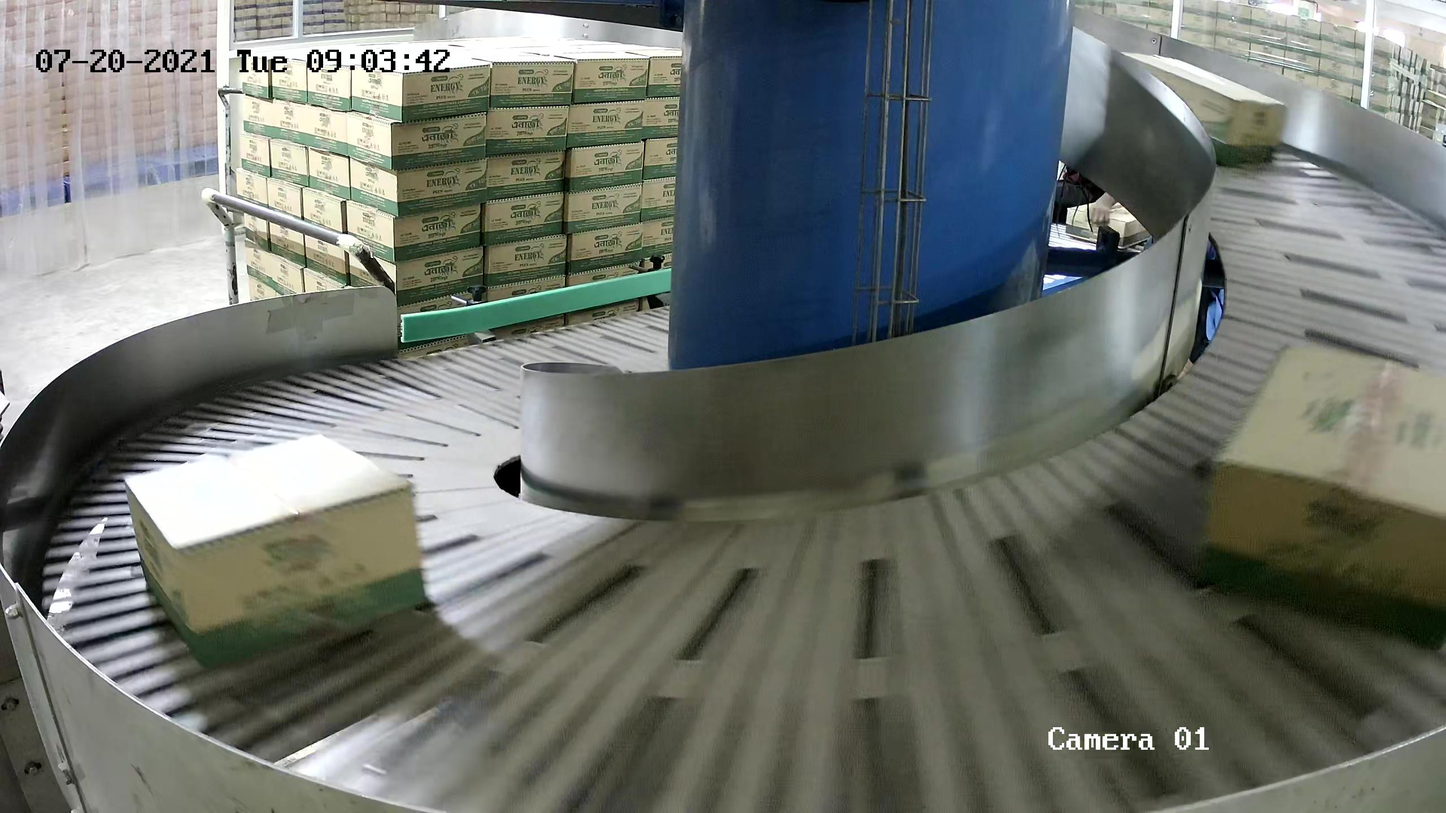Box: (1195, 338, 1446, 651), (123, 433, 429, 673), (1117, 51, 1288, 167)
